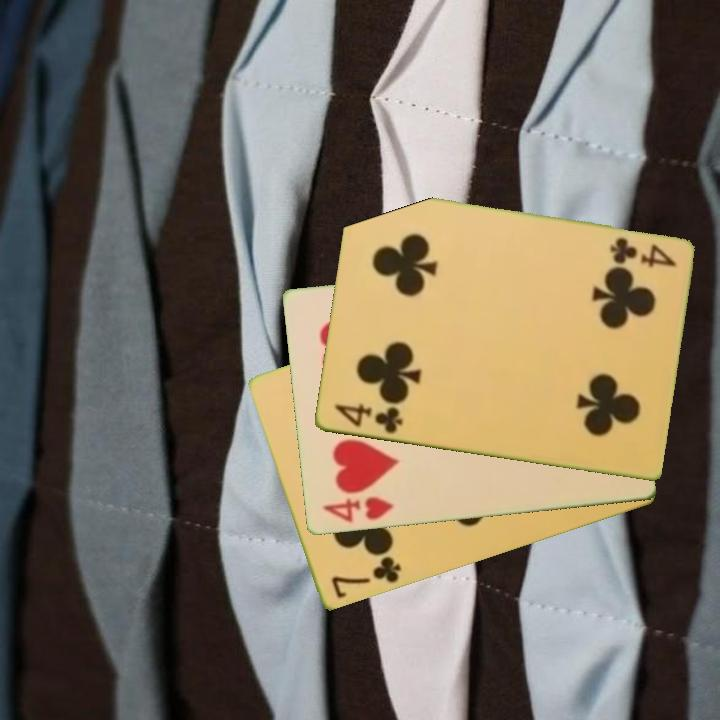4c: (330, 400, 405, 437), (605, 234, 679, 270)
4h: (318, 493, 396, 527)
7c: (327, 553, 404, 602)
